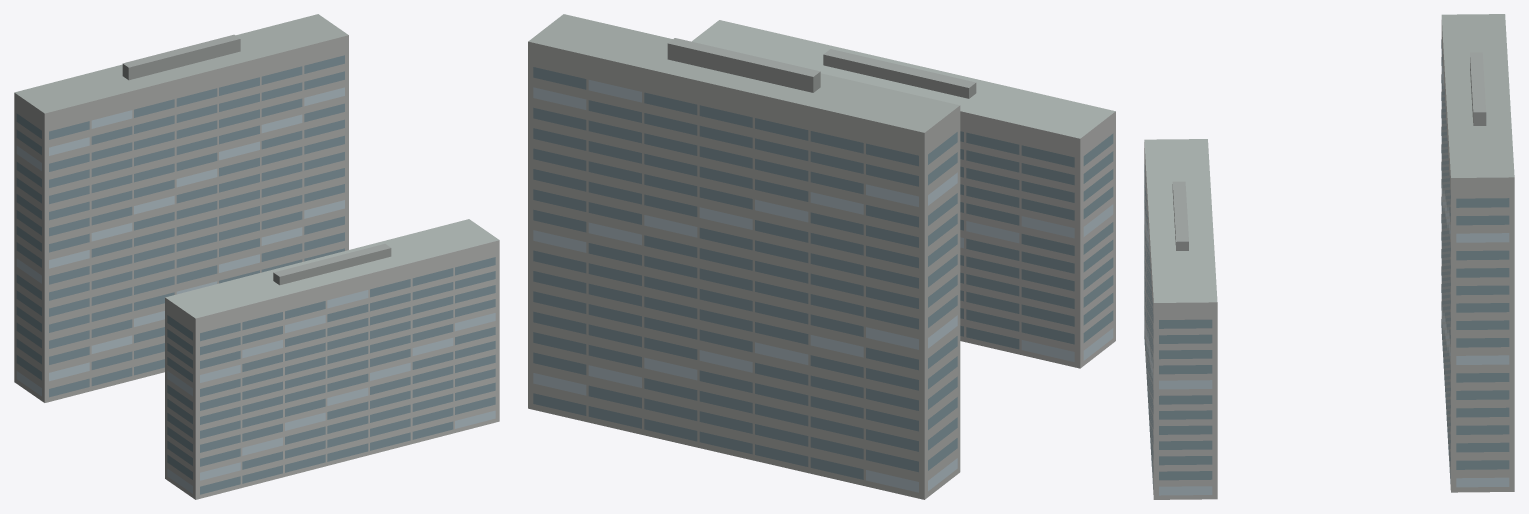
Rendered from apt-a14319003.glb.
The picture shows the model from 3 angles, left to right: view 1: azimuth 30°, elevation 25°; view 2: azimuth 150°, elevation 25°; view 3: azimuth 270°, elevation 25°; orthographic projection. The views are drawn at different scales.
Parts seen in each view (by area): view 1: apt-a14319003; view 2: apt-a14319003; view 3: apt-a14319003.
Boxes of the visible parts, x1,y1,x2,y2 form: apt-a14319003: (14,14,499,499); apt-a14319003: (528,14,1115,499); apt-a14319003: (1144,14,1514,499).
Bounding box in the file's own units: 64.27 × 57.3 × 58.64.
